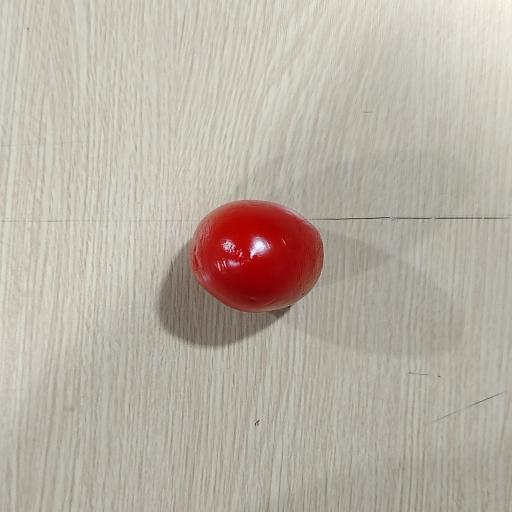spoiled: (190, 200, 323, 312)
